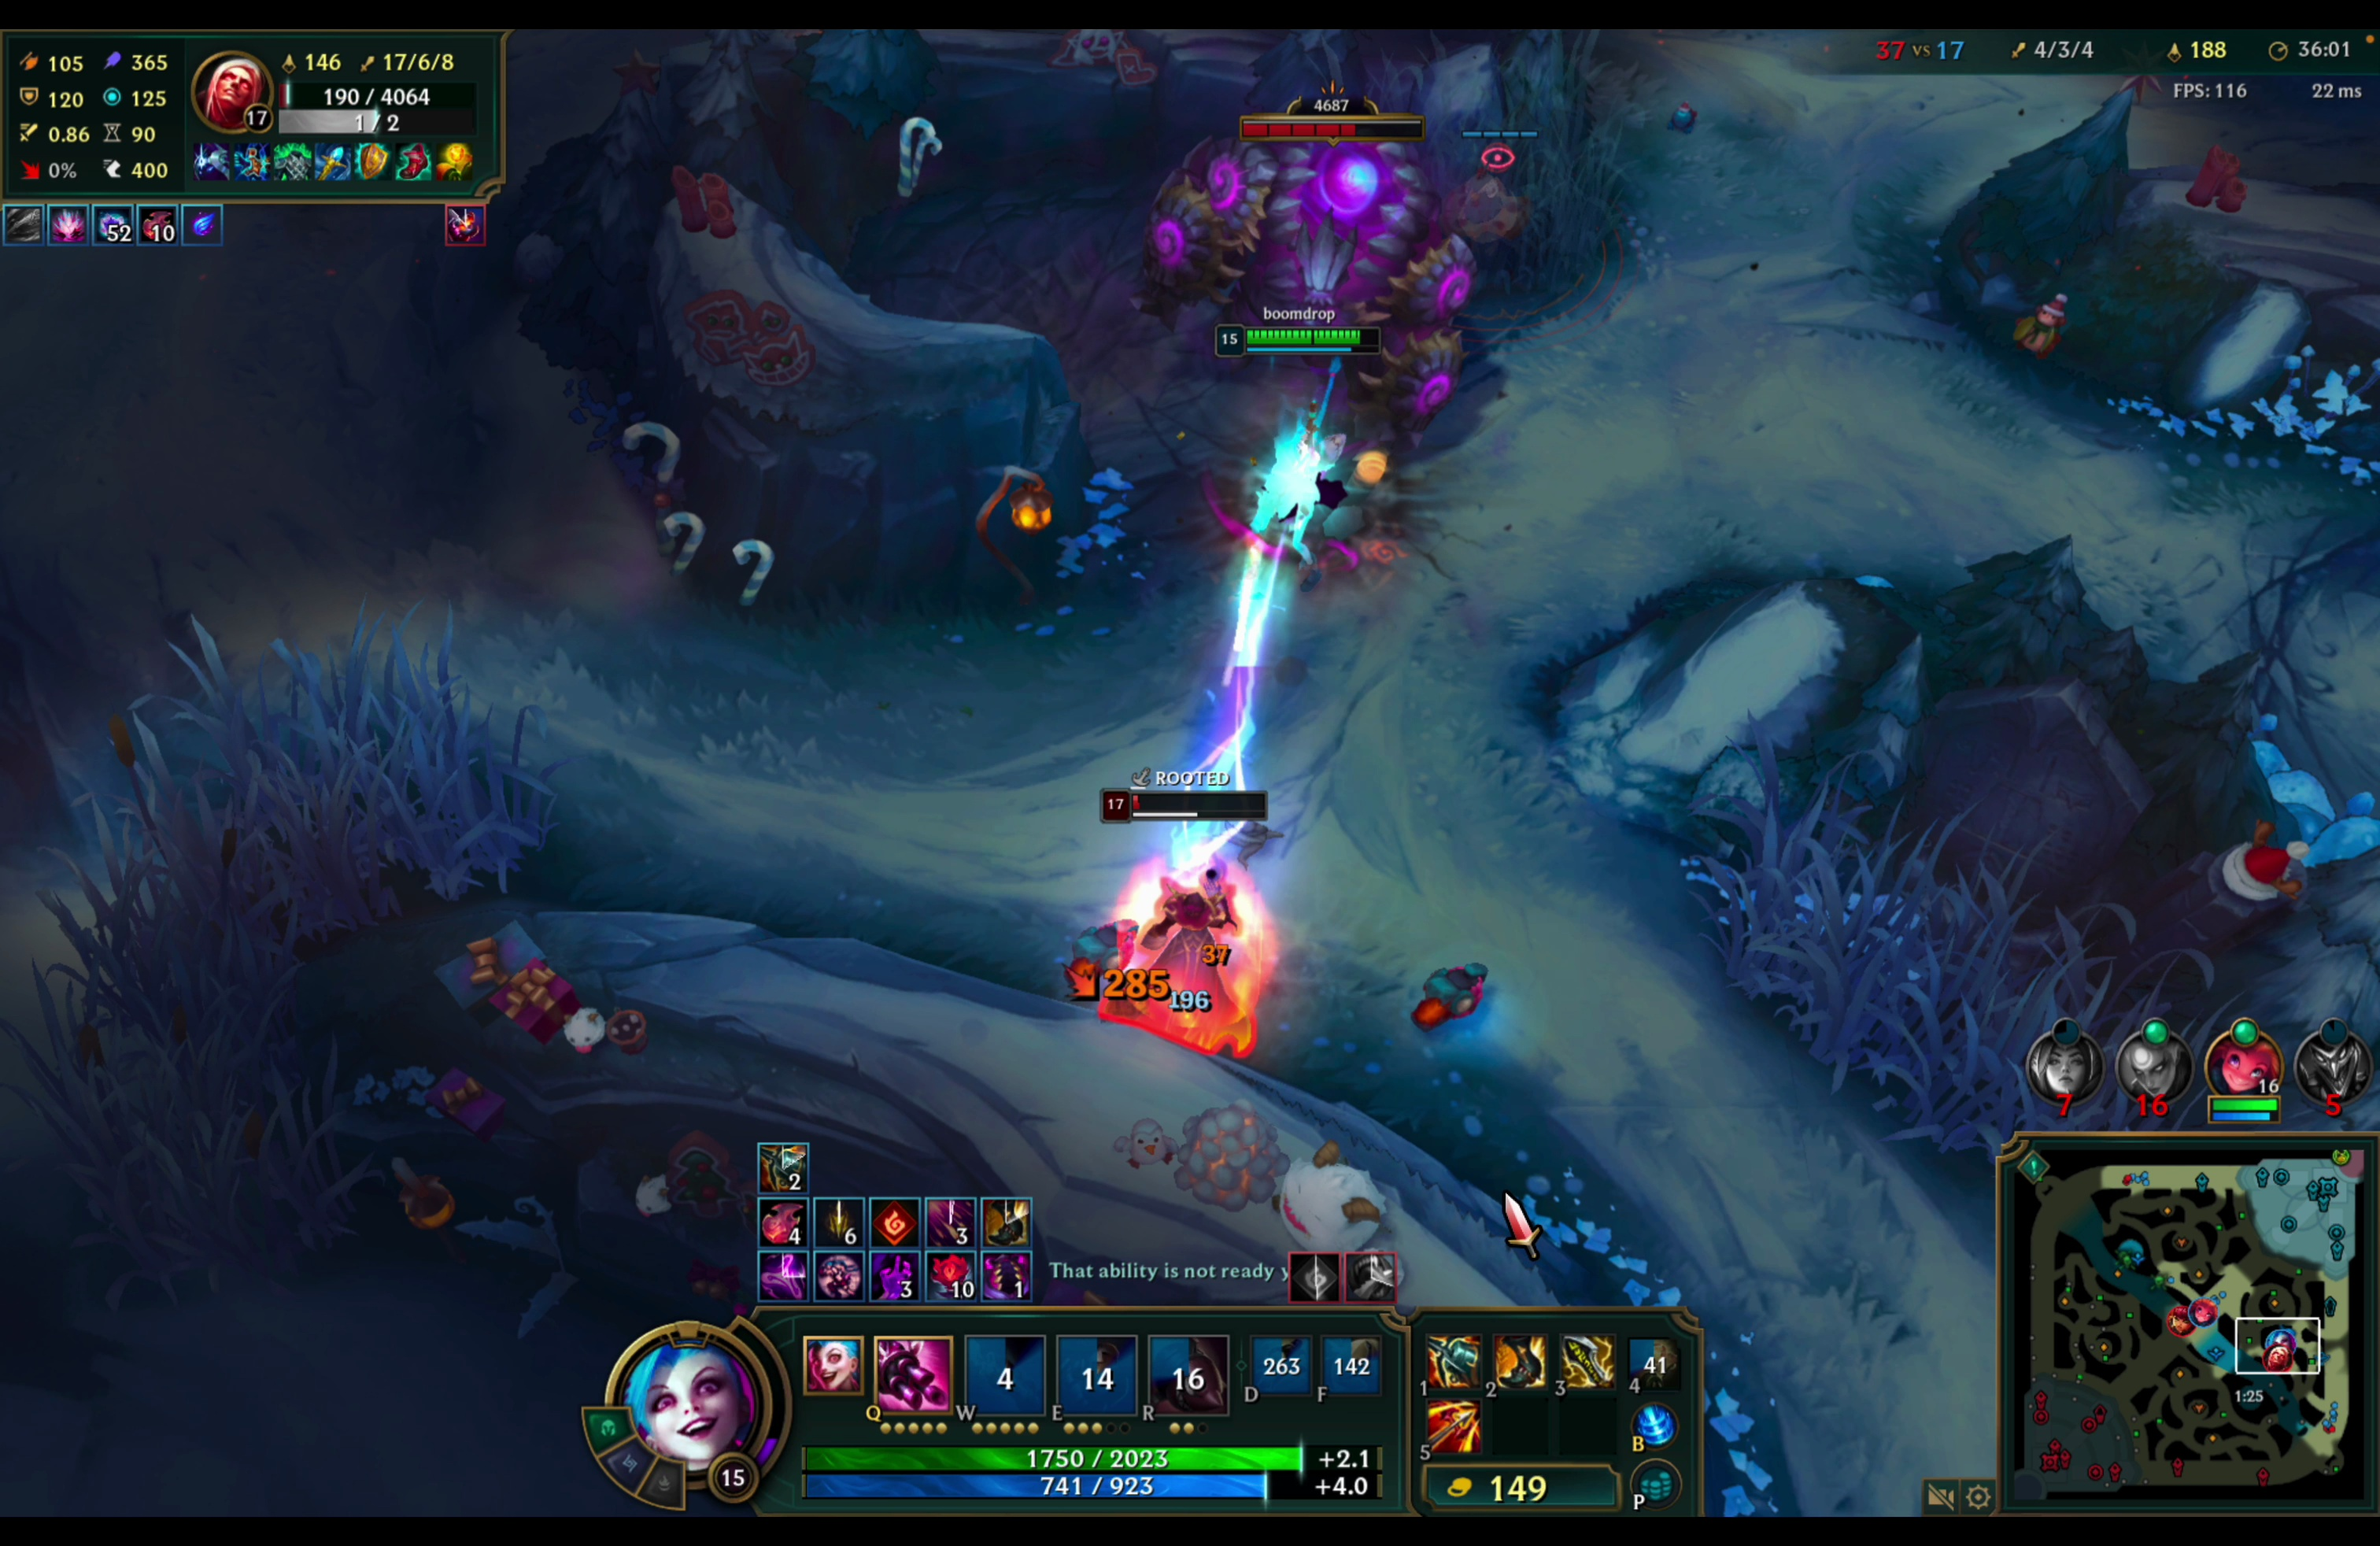JINX_W_PROJECTILE: (1112, 298, 1405, 946)
